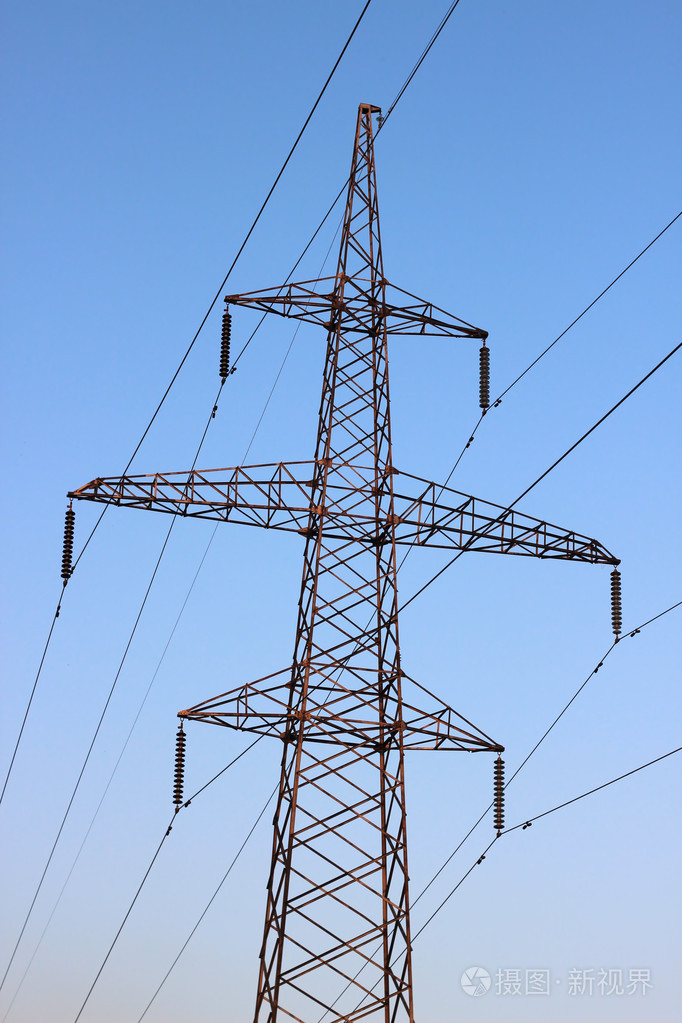insulator: (55, 510, 76, 580), (490, 758, 509, 833), (168, 732, 186, 804), (608, 571, 627, 633), (477, 346, 493, 410), (218, 316, 233, 380)
